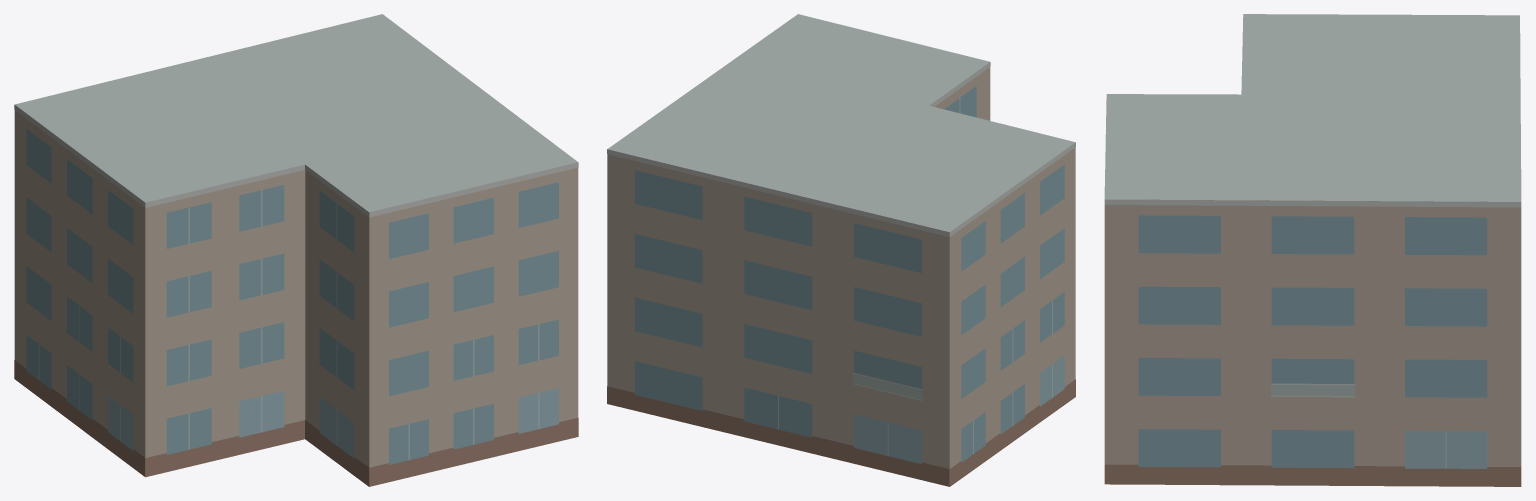
File: survey-upis-32973751.glb
3 renders of one model, left to right at view 1: azimuth 30°, elevation 25°; view 2: azimuth 150°, elevation 25°; view 3: azimuth 270°, elevation 25°, orthographic. The views are drawn at different scales.
Parts seen in each view (by area): view 1: survey-upis-32973751.tmp; view 2: survey-upis-32973751.tmp; view 3: survey-upis-32973751.tmp.
Boxes of the visible parts, <box> form: survey-upis-32973751.tmp: <box>14,14,578,486</box>; survey-upis-32973751.tmp: <box>607,14,1075,486</box>; survey-upis-32973751.tmp: <box>1104,14,1521,486</box>.
Size of the model in its own units: 17.98 by 12.7 by 16.85.
